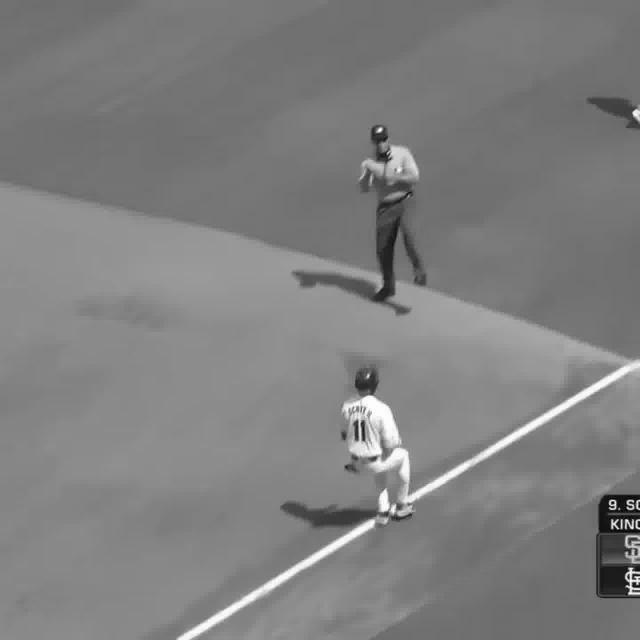shoe: (378, 505, 393, 528), (396, 503, 415, 519)
